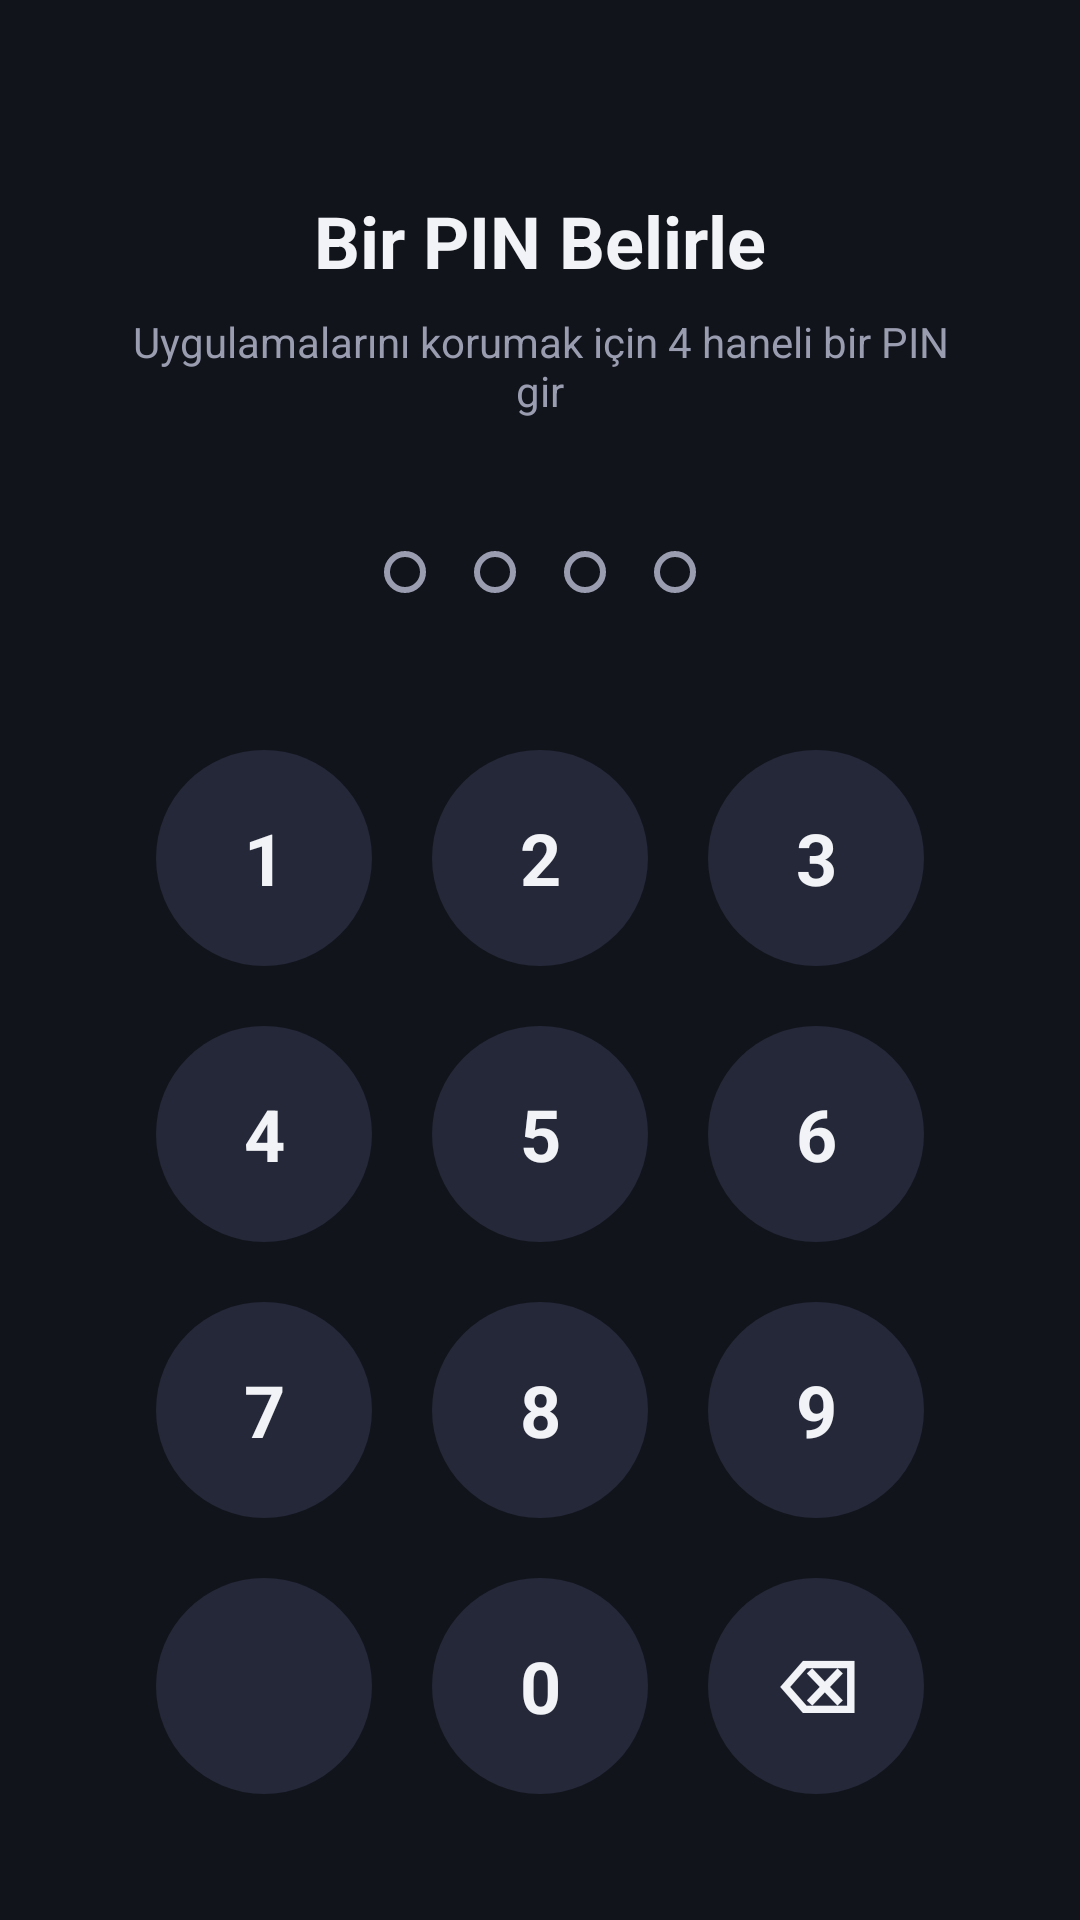

Screen size 1080x1920. Icon name, then its box in pixels as (x1, y1, x2, y2):
dot empty: (384, 551, 426, 593), (474, 551, 516, 593), (564, 551, 606, 593), (654, 551, 696, 593)
